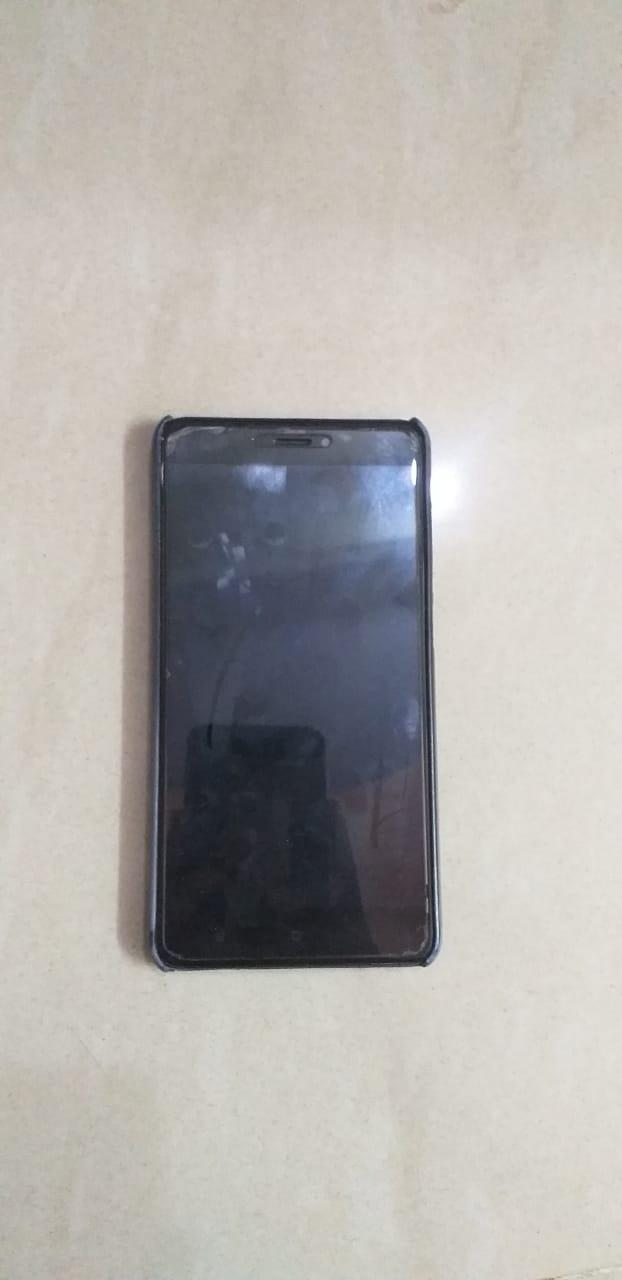Phone: (123, 392, 468, 1000)
